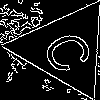C: (39, 23, 100, 77)
